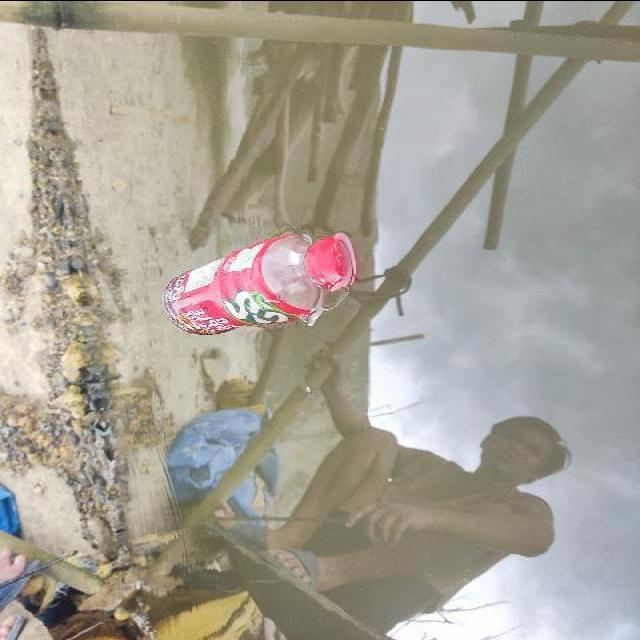Bottle: (154, 218, 362, 344)
